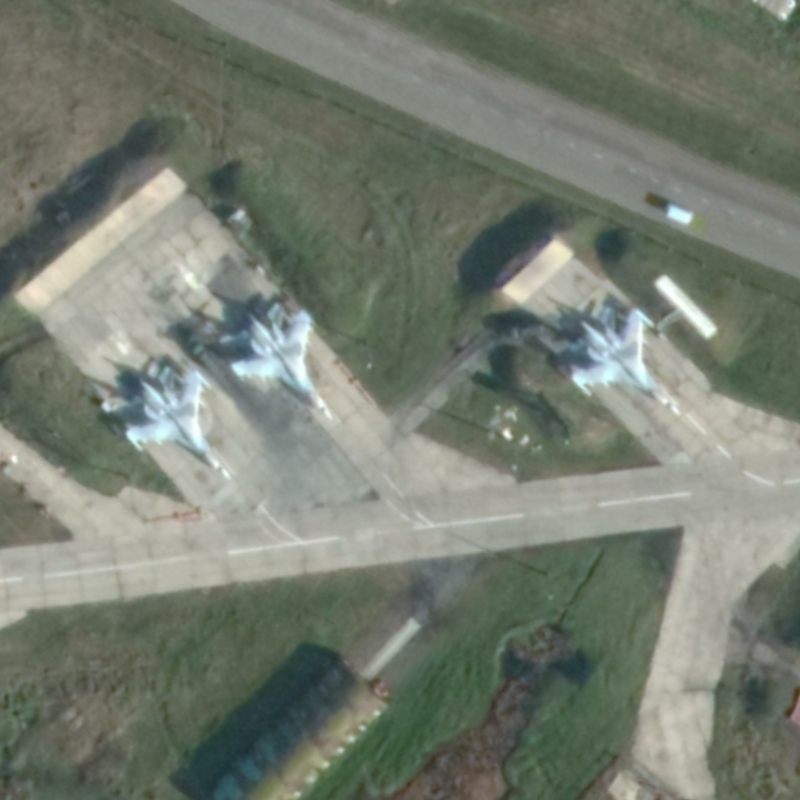A1: (218, 299, 337, 423), (122, 362, 232, 481), (565, 304, 675, 409)
